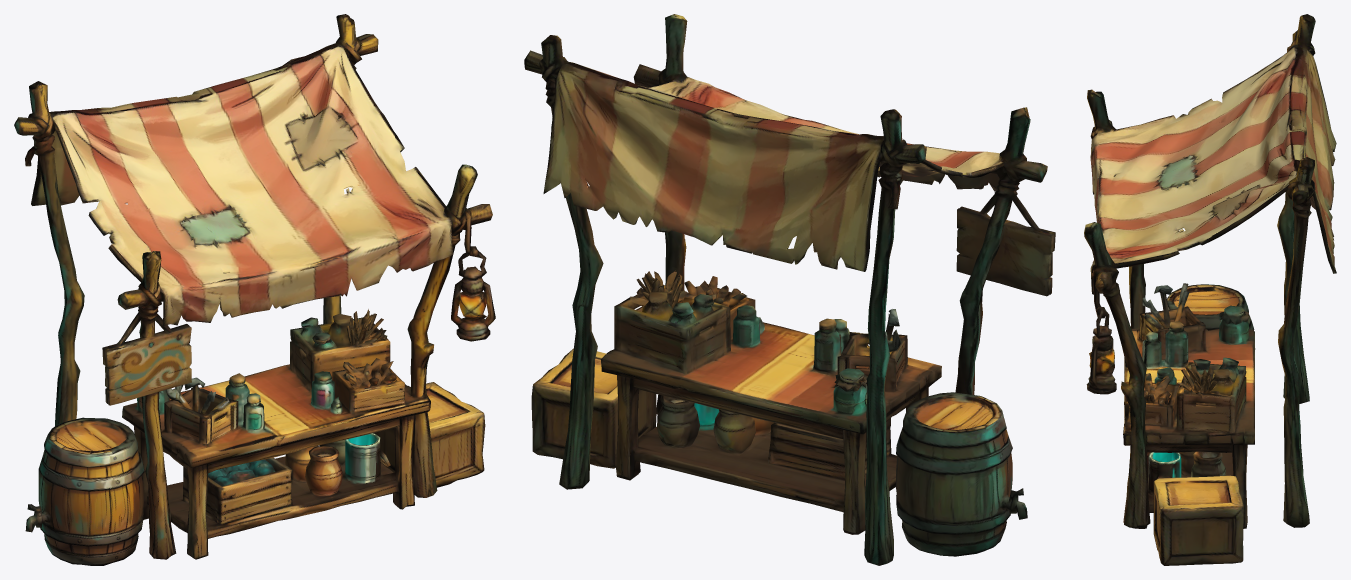
Rendered from wl_market_stall.glb.
3 renders of one model, left to right at view 1: azimuth 30°, elevation 25°; view 2: azimuth 150°, elevation 25°; view 3: azimuth 270°, elevation 25°, orthographic. The views are drawn at different scales.
Parts seen in each view (by area): view 1: wl_market_stall; view 2: wl_market_stall; view 3: wl_market_stall.
Part boxes in pixels (x1,y1,x2,y2): wl_market_stall: (14, 14, 495, 565); wl_market_stall: (524, 14, 1055, 565); wl_market_stall: (1084, 14, 1336, 565).
Bounding box in the file's own units: 1 × 0.9359 × 0.5487.
1 material, 1 textured.
